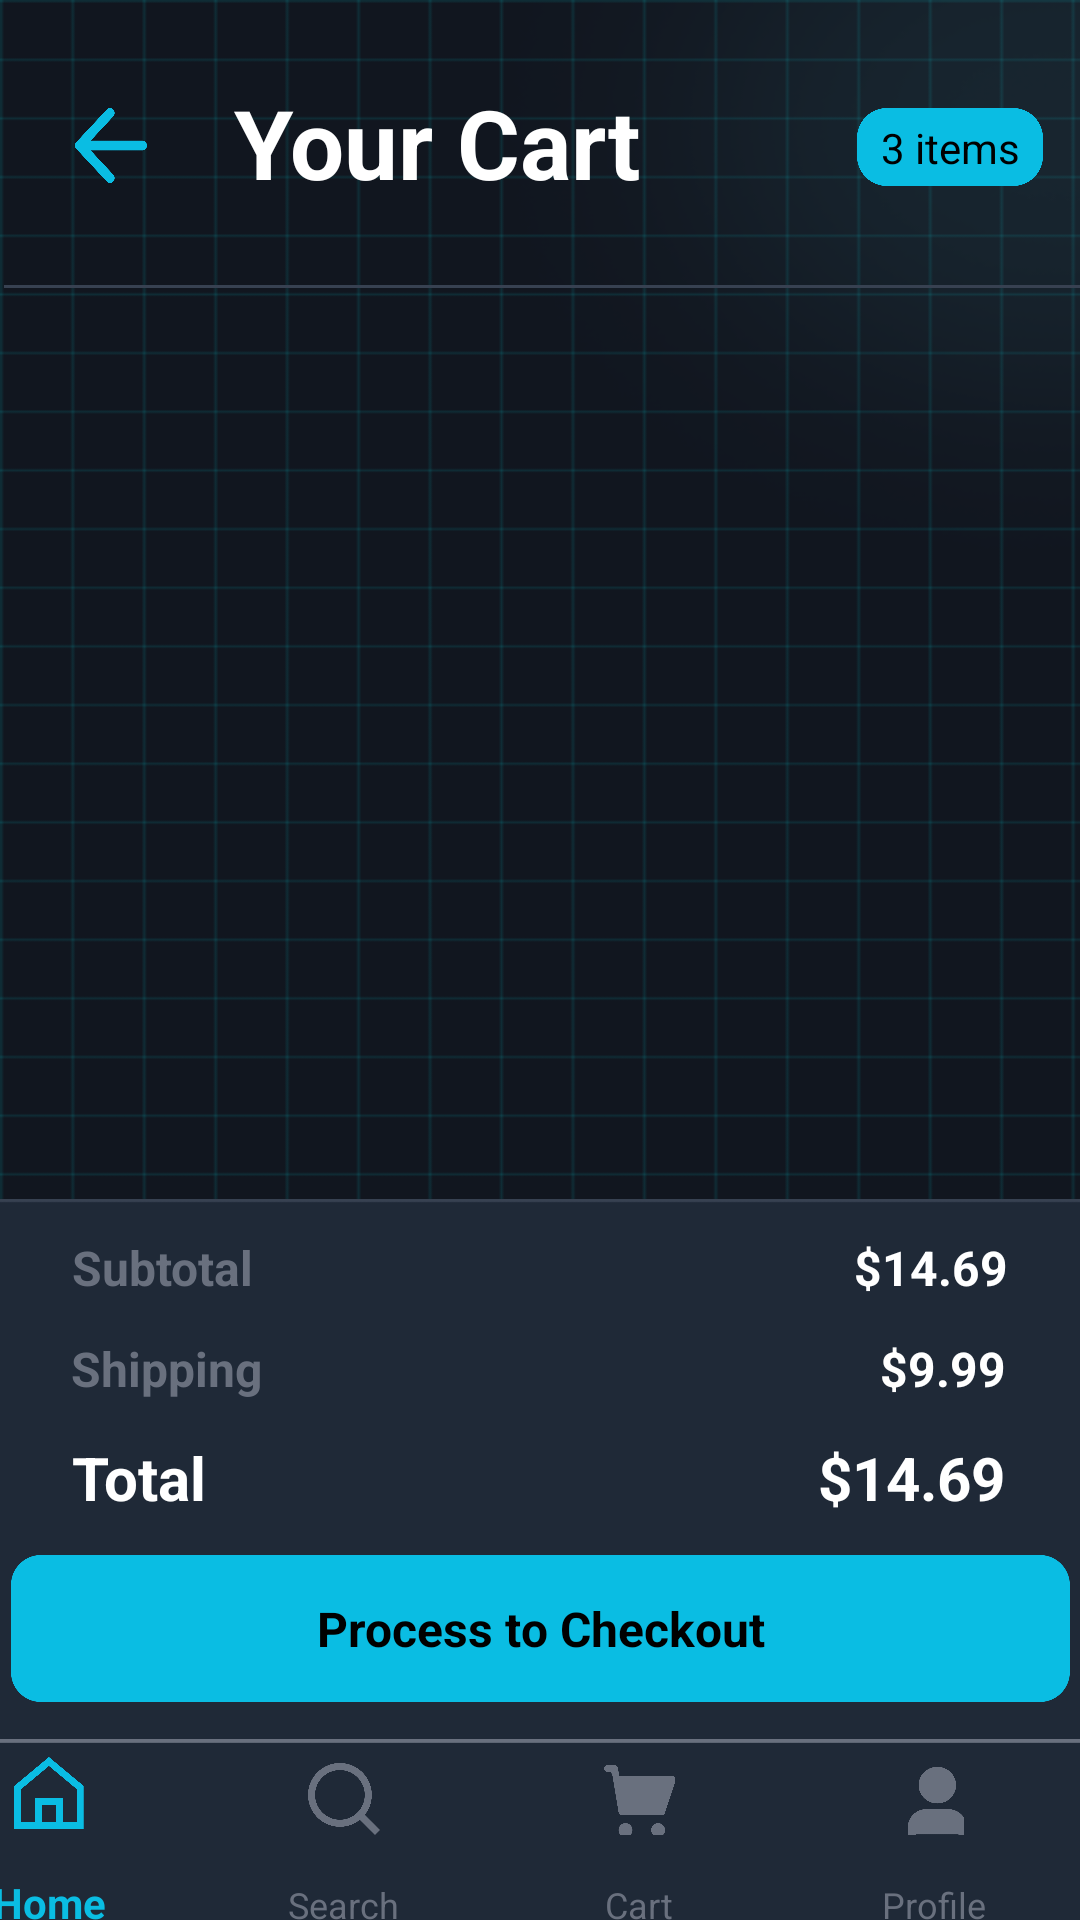

Named icons in this screenshot (1080px x 1920px) and their bounding boxes, box=[x1, y1, x2, y2]:
muitentrai: box=[75, 108, 147, 183]
